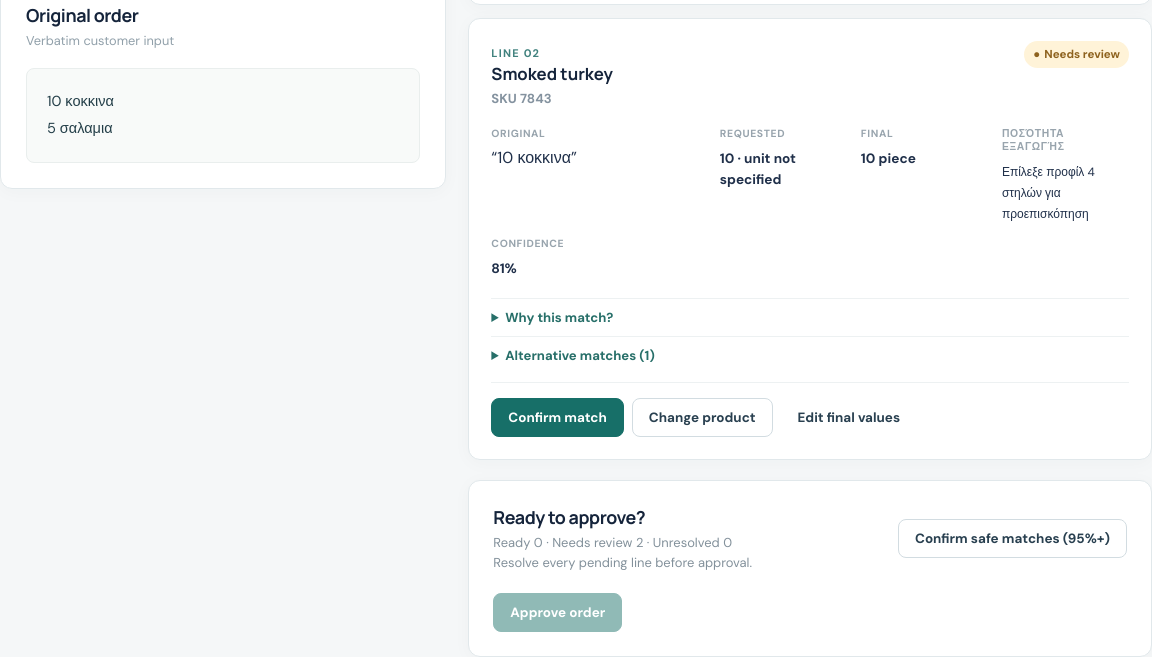
Test: bulk confirmation includes needs_review lines and shows skipped reasons
This screenshot has width=1152, height=657.
(page scrolled)
Click the button "Confirm safe matches (95%+)" at (1012, 539), box [898, 519, 1127, 558]
(page scrolled)
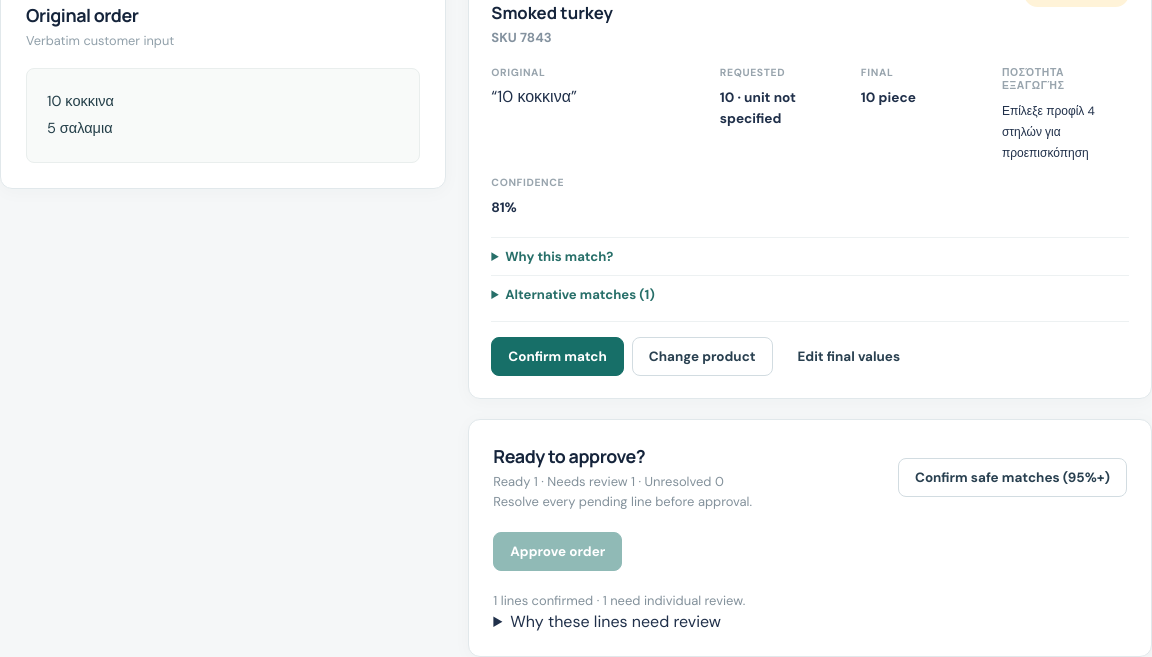
Expected: the button "Approve order" is disabled, [493, 532, 622, 571]
Expected: the text "1 lines confirmed · 1 need individual review." is shown, [493, 592, 745, 609]
Click the heading "Why these lines need review" at (616, 621), box [510, 611, 721, 632]
(page scrolled)
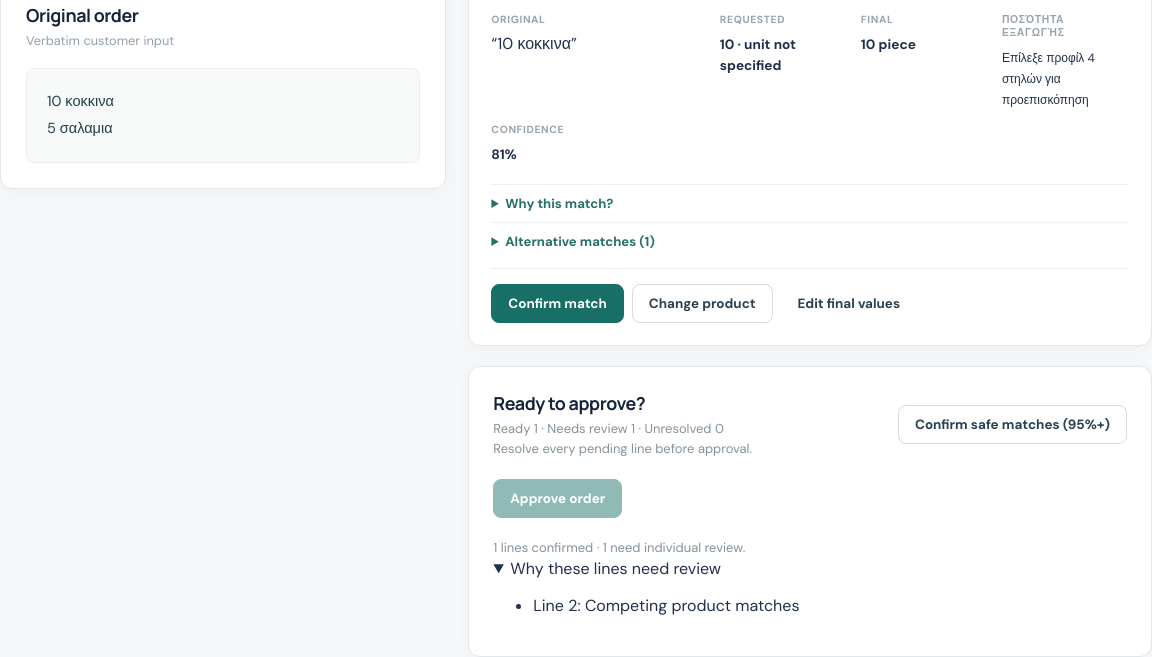
Expected: the list item "Line 2: Competing product matches" is shown, [533, 595, 799, 616]
